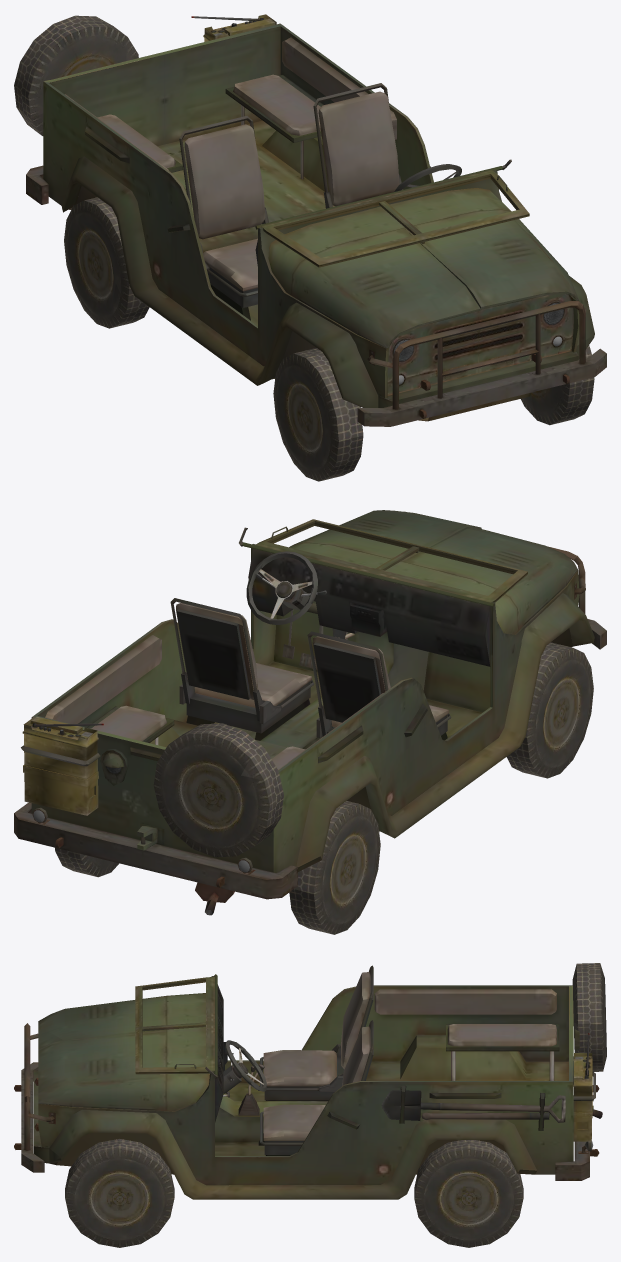
Rendered from p_car.glb.
3 views of the same model, one above another, from view 1: azimuth 30°, elevation 25°; view 2: azimuth 150°, elevation 25°; view 3: azimuth 270°, elevation 25° (orthographic). The views are drawn at different scales.
Parts seen in each view (by area): view 1: ZaAZ-S844W_0; view 2: ZaAZ-S844W_0; view 3: ZaAZ-S844W_0.
Part boxes in pixels (<box>): ZaAZ-S844W_0: <box>14,14,606,481</box>; ZaAZ-S844W_0: <box>14,510,606,934</box>; ZaAZ-S844W_0: <box>14,963,606,1247</box>.
Size of the model in its own units: 171 by 146 by 398.
Materials: 3 (3 with a texture image).
